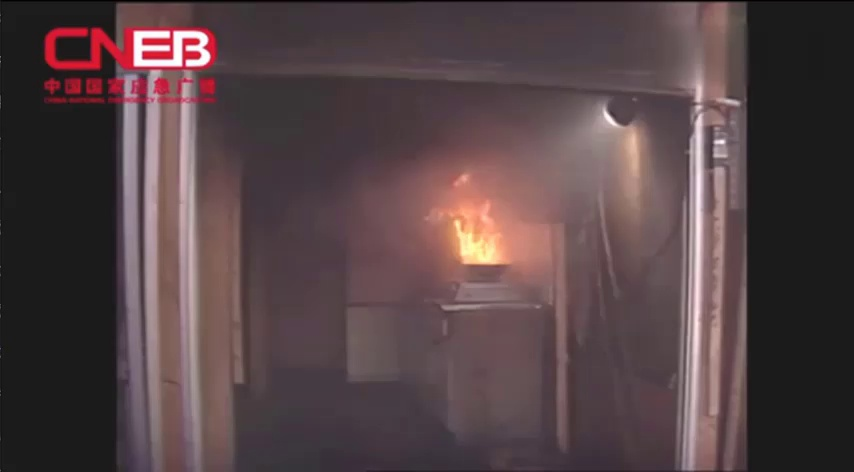fire: (421, 164, 512, 277)
